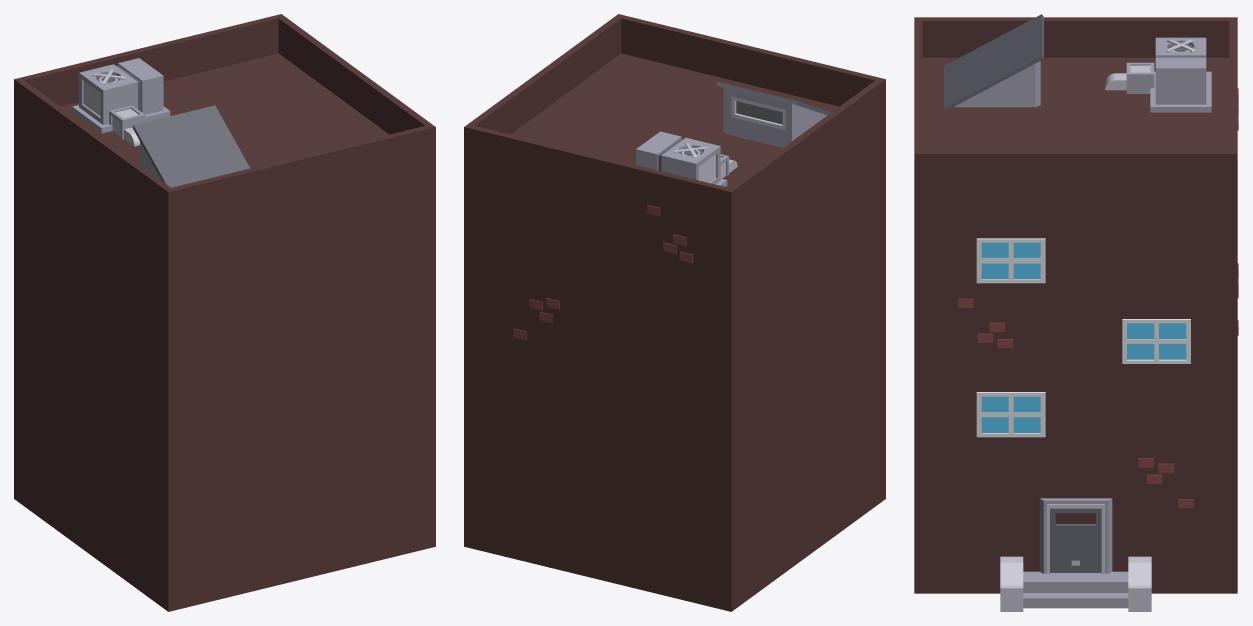
File: building 4.fbx
3 renders of one model, left to right at view 1: azimuth 30°, elevation 25°; view 2: azimuth 150°, elevation 25°; view 3: azimuth 270°, elevation 25°, orthographic. The views are drawn at different scales.
Parts seen in each view (by area): view 1: block_53, block_half_96, block_half_98, block_half_97, roof_factorySlant_103, block_half_95, detail_airLarge_100, detail_airSmall_101; view 2: block_53, block_half_98, block_half_96, block_half_97, block_half_95, roof_factorySlant_103, detail_airLarge_100; view 3: block_53, block_half_95, block_half_97, roof_factorySlant_103, detail_stairs_102, wall_garageDoorClosed_104, detail_airLarge_100, window_wide_88, window_wide_90, window_wide_89, block_half_98, block_half_96 (+3 smaller).
Part boxes in pixels (x1,y1,x2,y2): block_53: [14, 53, 435, 611]; block_half_96: [164, 126, 435, 226]; block_half_98: [14, 14, 284, 115]; block_half_97: [14, 77, 174, 226]; roof_factorySlant_103: [132, 105, 250, 187]; block_half_95: [275, 14, 435, 163]; detail_airLarge_100: [72, 58, 170, 133]; detail_airSmall_101: [109, 105, 145, 146]; block_53: [464, 53, 885, 611]; block_half_98: [464, 124, 735, 226]; block_half_96: [616, 14, 885, 116]; block_half_97: [724, 78, 885, 226]; block_half_95: [464, 14, 624, 163]; roof_factorySlant_103: [716, 81, 831, 147]; detail_airLarge_100: [636, 131, 727, 186]; block_53: [914, 57, 1237, 593]; block_half_95: [914, 150, 1237, 190]; block_half_97: [915, 17, 1237, 57]; roof_factorySlant_103: [944, 14, 1043, 109]; detail_stairs_102: [1000, 556, 1151, 611]; wall_garageDoorClosed_104: [1039, 498, 1112, 574]; detail_airLarge_100: [1150, 37, 1211, 112]; window_wide_88: [976, 238, 1045, 283]; window_wide_90: [976, 392, 1045, 437]; window_wide_89: [1122, 319, 1190, 363]; block_half_98: [1229, 17, 1237, 189]; block_half_96: [914, 17, 922, 190].
Size of the model in its own units: 45.39 by 62.28 by 40.15.
